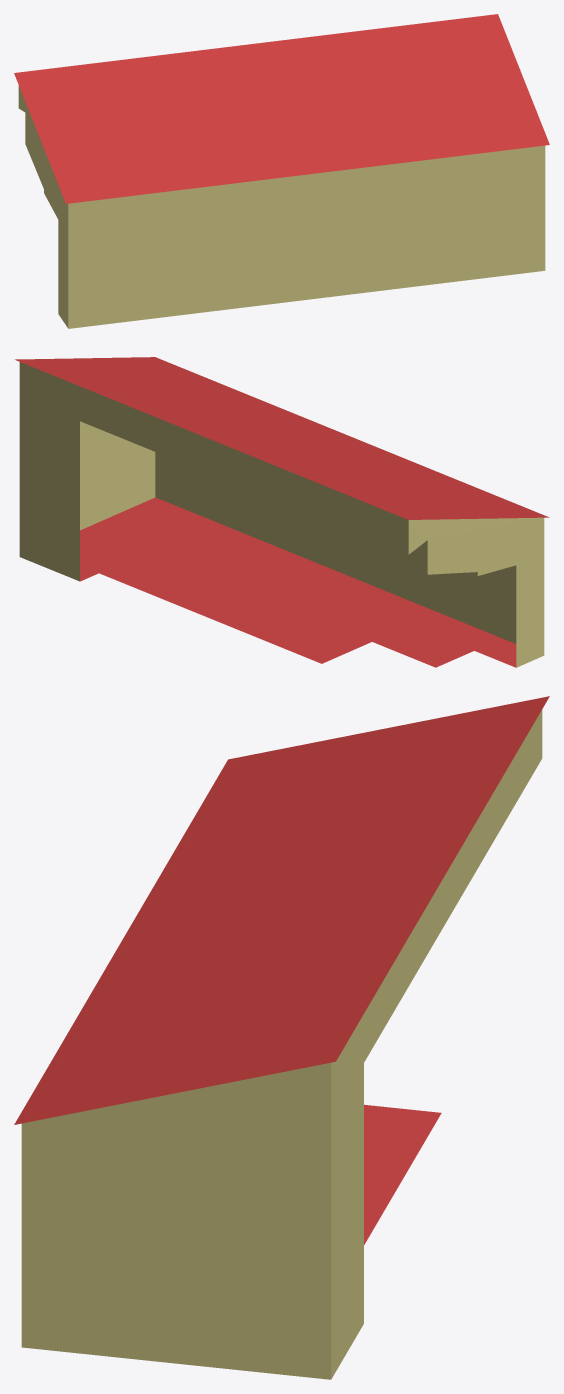
The picture shows the model from 3 angles, top to bottom: view 1: azimuth 30°, elevation 25°; view 2: azimuth 150°, elevation 25°; view 3: azimuth 270°, elevation 25°; orthographic projection. The views are drawn at different scales.
Size of the model in its own units: 36.62 by 20.78 by 13.75.
